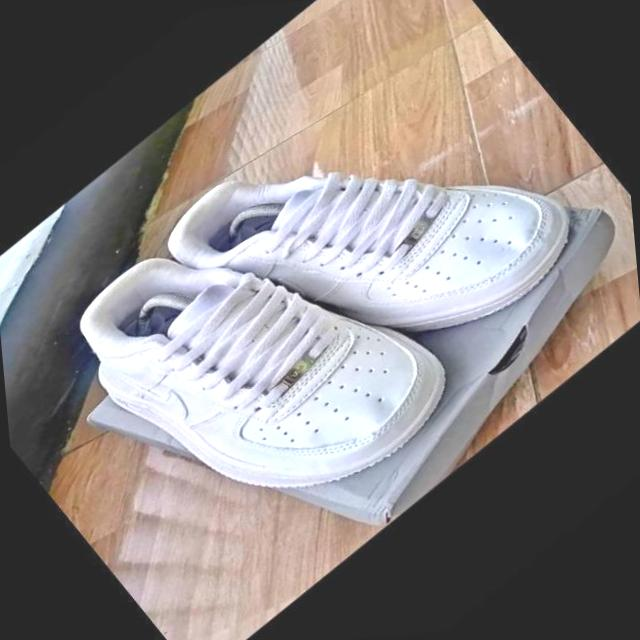nike_fake_airforce: (137, 10, 614, 473), (36, 132, 482, 584)
